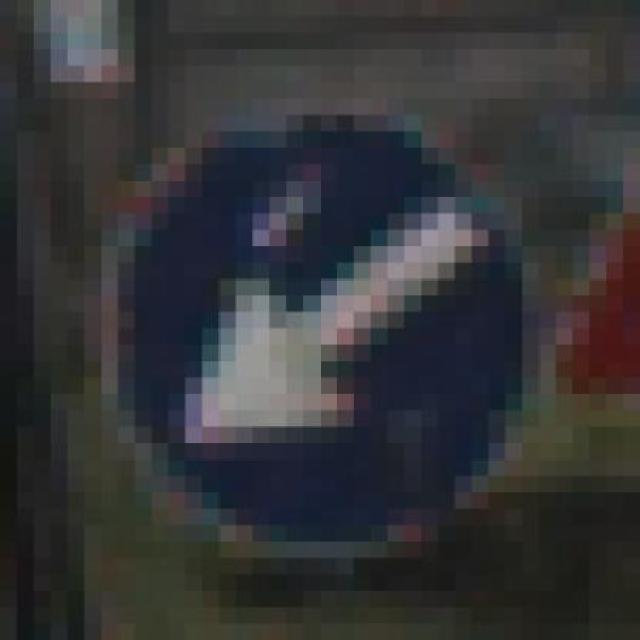Keep-Left: (101, 82, 539, 590)
